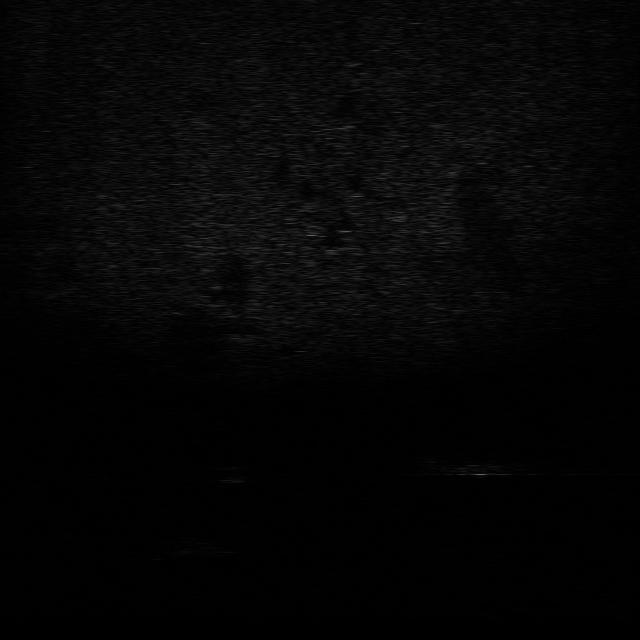ball: (206, 462, 256, 487)
circle cage: (155, 534, 230, 564)
human body: (408, 451, 532, 483)
